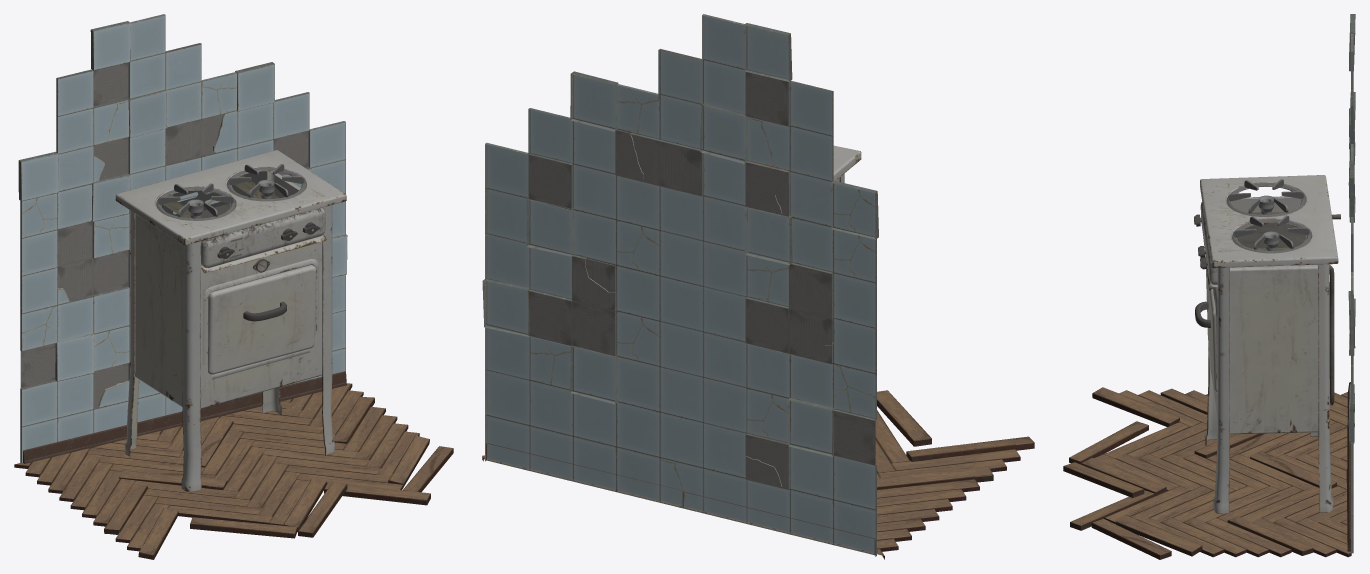
Rendered from gas-stove.glb.
The picture shows the model from 3 angles, left to right: view 1: azimuth 30°, elevation 25°; view 2: azimuth 150°, elevation 25°; view 3: azimuth 270°, elevation 25°; orthographic projection. The views are drawn at different scales.
Visible parts, largest first — view 1: Object_0, Object_1; view 2: Object_0, Object_1; view 3: Object_0, Object_1.
Boxes of the visible parts, x1,y1,x2,y2 form: Object_0: [14, 14, 453, 559]; Object_1: [115, 150, 346, 492]; Object_0: [482, 14, 1034, 559]; Object_1: [833, 145, 861, 182]; Object_0: [1063, 14, 1355, 559]; Object_1: [1194, 175, 1340, 514].
Bounding box in the file's own units: 0.6 × 0.7014 × 0.4425.
2 materials, 2 textured.
